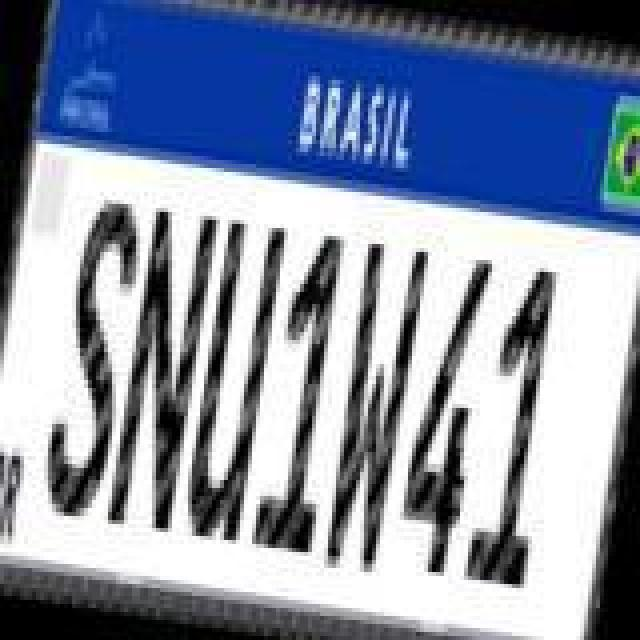1: (462, 256, 578, 592), (246, 226, 362, 558)
4: (392, 240, 504, 576)
N: (104, 198, 224, 538)
S: (34, 190, 150, 522)
U: (174, 214, 290, 554)
W: (318, 236, 434, 580)
